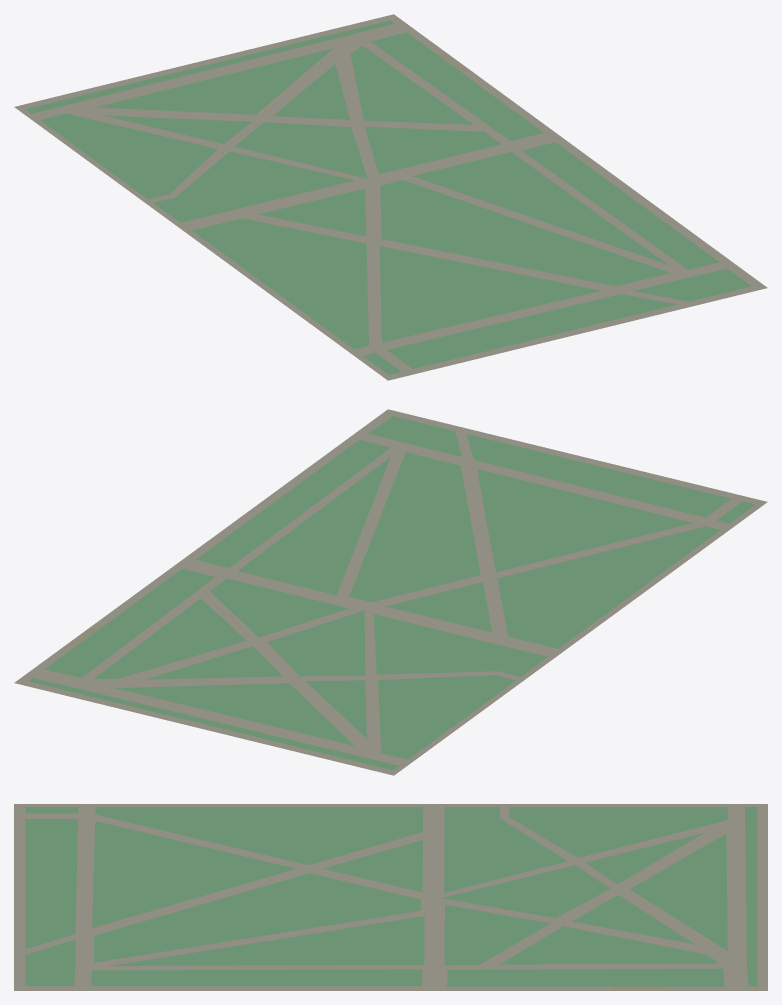
The model's file is garden_floor.obj.
3 views of the same model, one above another, from view 1: azimuth 30°, elevation 25°; view 2: azimuth 150°, elevation 25°; view 3: azimuth 270°, elevation 25° (orthographic).
Parts seen in each view (by area): view 1: UniFloor_Plane; view 2: UniFloor_Plane; view 3: UniFloor_Plane.
Boxes of the visible parts, left/top/right/bottom form: UniFloor_Plane: left=14, top=14, right=767, bottom=380; UniFloor_Plane: left=14, top=409, right=767, bottom=775; UniFloor_Plane: left=14, top=804, right=767, bottom=990.
Bounding box in the file's own units: 131 × 0 × 224.
1 material, 1 textured.
